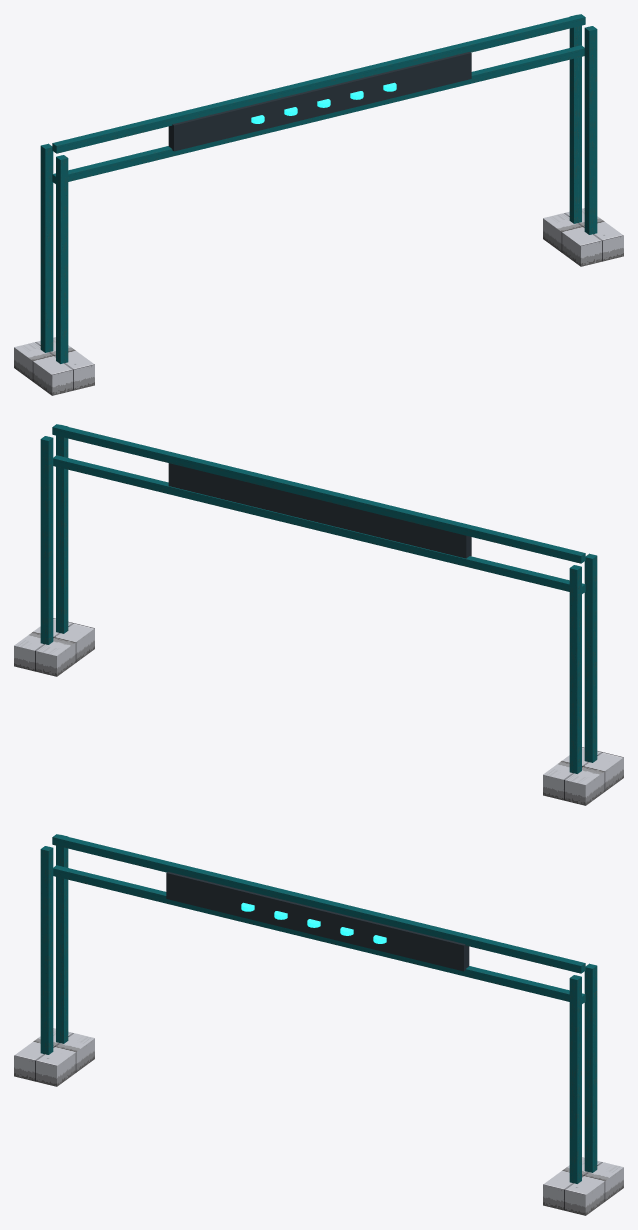
The model's file is start_gantry.glb.
The picture shows the model from 3 angles, top to bottom: view 1: azimuth 30°, elevation 25°; view 2: azimuth 150°, elevation 25°; view 3: azimuth 330°, elevation 25°; orthographic projection.
Parts seen in each view (by area): view 1: harbor_start_gantry; view 2: harbor_start_gantry; view 3: harbor_start_gantry.
Part boxes in pixels (bbox=[...]): harbor_start_gantry: bbox=[14, 14, 623, 395]; harbor_start_gantry: bbox=[14, 424, 623, 805]; harbor_start_gantry: bbox=[14, 834, 623, 1215].
Size of the model in its own units: 17.3 by 6.71 by 2.
4 materials, 2 textured.
